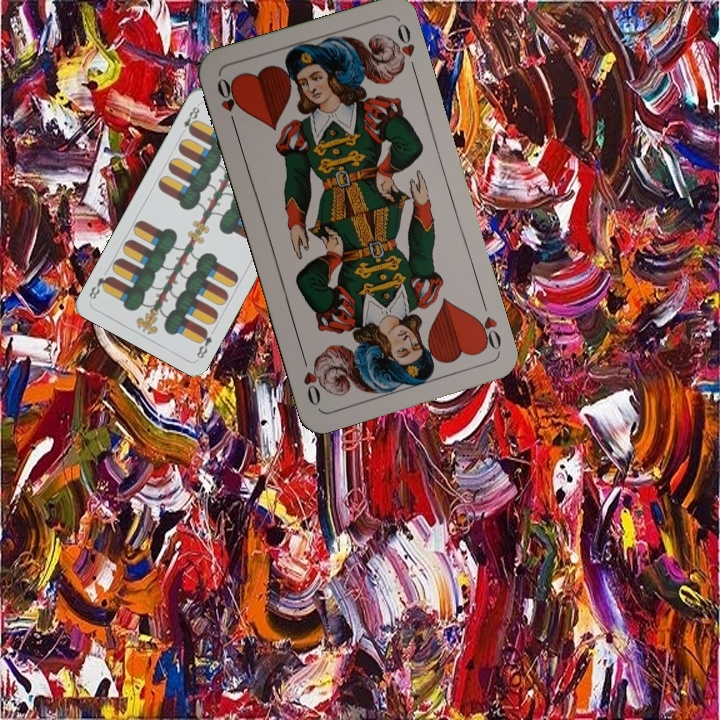E8: (177, 101, 202, 137), (192, 325, 215, 361)
HO: (470, 297, 504, 354), (213, 74, 242, 131)
